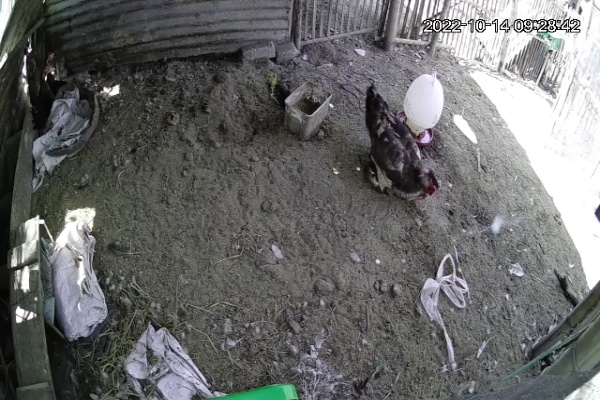Kawin: (354, 81, 441, 219)
